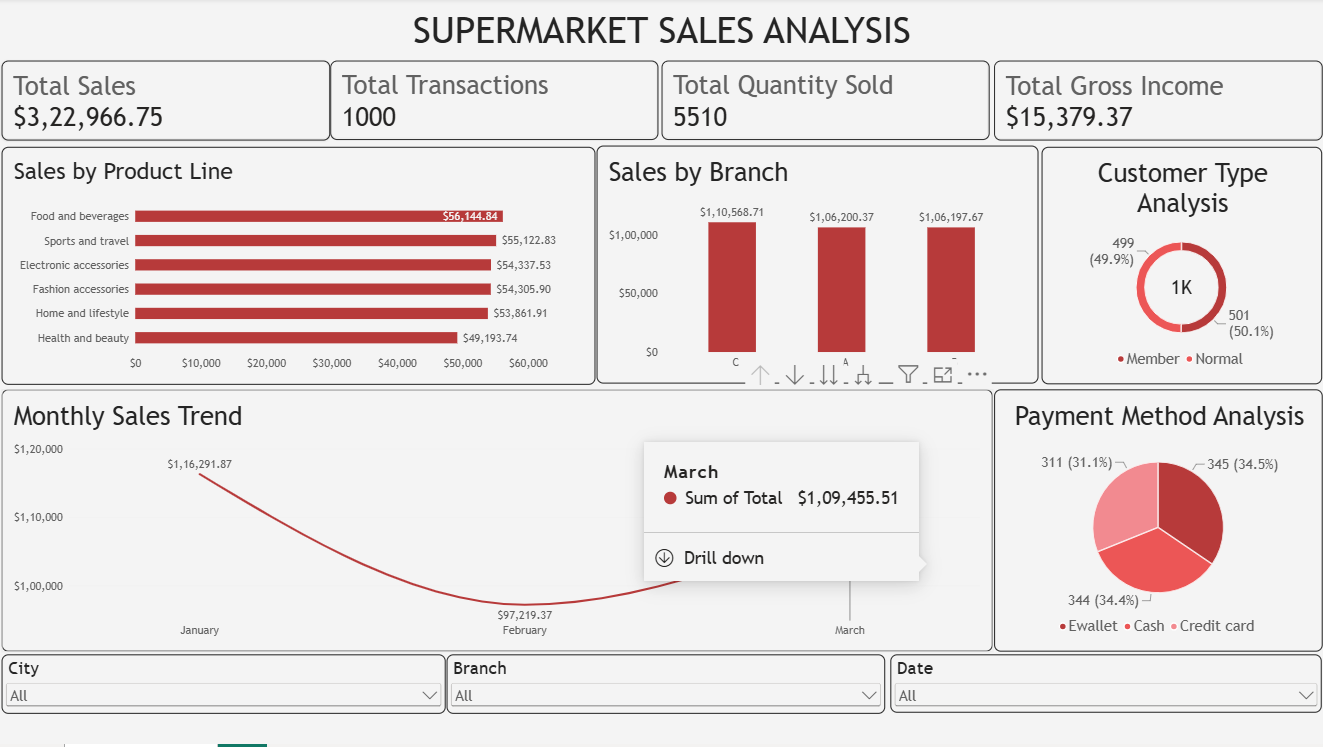

Layout of this report page (visuals, bound fields, positions):
{"tool":"powerbi","page":{"name":"Sales Overview","canvas":[1920,1080],"ordinal":0},"visuals":[{"type":"cardVisual","fields":{"Data":["Sum(supermarket_sales.Total)"]},"box":[3,90,476,116],"z":0},{"type":"cardVisual","fields":{"Data":["Count(supermarket_sales.Invoice ID)"]},"box":[480,90,475,115],"z":1000},{"type":"cardVisual","fields":{"Data":["Sum(supermarket_sales.Quantity)"]},"box":[960,90,475,115],"z":2000},{"type":"cardVisual","fields":{"Data":["Sum(supermarket_sales.gross income)"]},"box":[1440,90,476,116],"z":3000},{"type":"clusteredBarChart","title":"Sales by Product Line","fields":{"Category":["supermarket_sales.Product line"],"Y":["Sum(supermarket_sales.Total)"]},"box":[3,215,860,345],"z":4000},{"type":"clusteredColumnChart","title":"Sales by Branch","fields":{"Category":["supermarket_sales.Branch"],"Y":["Sum(supermarket_sales.Total)"]},"box":[865,214,640,345],"z":5000},{"type":"lineChart","title":"Monthly Sales Trend","fields":{"Category":["supermarket_sales.Date.Variation.Date Hierarchy.Month","supermarket_sales.Date.Variation.Date Hierarchy.Day"],"Y":["Sum(supermarket_sales.Total)"]},"box":[3,566,1435,380],"z":6000},{"type":"pieChart","title":"Payment Method Analysis","fields":{"Y":["CountNonNull(supermarket_sales.Invoice ID)"],"Category":["supermarket_sales.Payment"]},"box":[1440,566,476,380],"z":7000},{"type":"donutChart","title":"Customer Type Analysis","fields":{"Category":["supermarket_sales.Customer type"],"Y":["CountNonNull(supermarket_sales.Invoice ID)"]},"box":[1510,216,406,344],"z":8000},{"type":"slicer","fields":{"Values":["supermarket_sales.City"]},"box":[3,950,643,86],"z":9000},{"type":"slicer","fields":{"Values":["supermarket_sales.Branch"]},"box":[648,950,635,86],"z":9001},{"type":"slicer","fields":{"Values":["supermarket_sales.Date"]},"box":[1290,950,625,85],"z":9002},{"type":"textbox","title":"SUPERMARKET SALES ANALYSIS","box":[4,0,1912,86],"z":9003}]}

Visuals, with their boxes in screenshot pixels (x1, y1, x2, y2), scaled from the page's 1920x1080 canvas onto the 1323x747 screenshot:
cardVisual - Sum(supermarket_sales.Total): pyautogui.locateOnScreen(2, 62, 330, 142)
cardVisual - Count(supermarket_sales.Invoice ID): pyautogui.locateOnScreen(331, 62, 658, 142)
cardVisual - Sum(supermarket_sales.Quantity): pyautogui.locateOnScreen(662, 62, 989, 142)
cardVisual - Sum(supermarket_sales.gross income): pyautogui.locateOnScreen(992, 62, 1320, 142)
"Sales by Product Line" clusteredBarChart: pyautogui.locateOnScreen(2, 149, 595, 387)
"Sales by Branch" clusteredColumnChart: pyautogui.locateOnScreen(596, 148, 1037, 387)
"Monthly Sales Trend" lineChart: pyautogui.locateOnScreen(2, 391, 991, 654)
"Payment Method Analysis" pieChart: pyautogui.locateOnScreen(992, 391, 1320, 654)
"Customer Type Analysis" donutChart: pyautogui.locateOnScreen(1040, 149, 1320, 387)
slicer - supermarket_sales.City: pyautogui.locateOnScreen(2, 657, 445, 717)
slicer - supermarket_sales.Branch: pyautogui.locateOnScreen(447, 657, 884, 717)
slicer - supermarket_sales.Date: pyautogui.locateOnScreen(889, 657, 1320, 716)
"SUPERMARKET SALES ANALYSIS" textbox: pyautogui.locateOnScreen(3, 0, 1320, 59)
